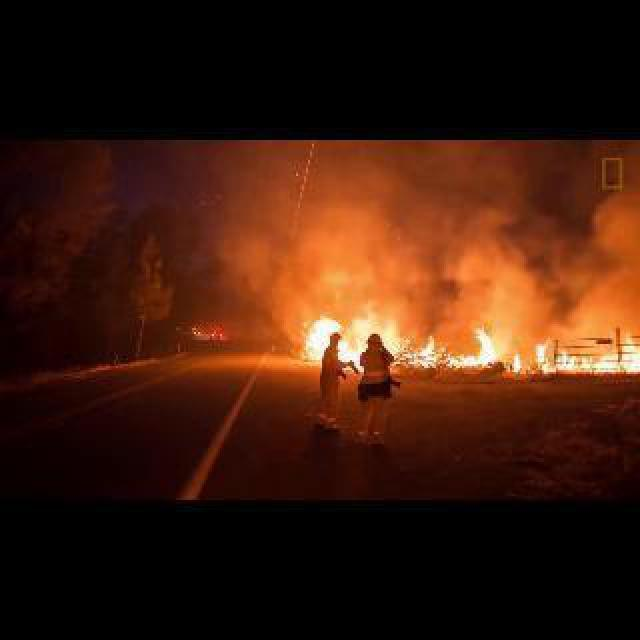Fire: (302, 298, 396, 370), (398, 328, 494, 368), (504, 354, 524, 372)
Smoke: (230, 148, 634, 322)
